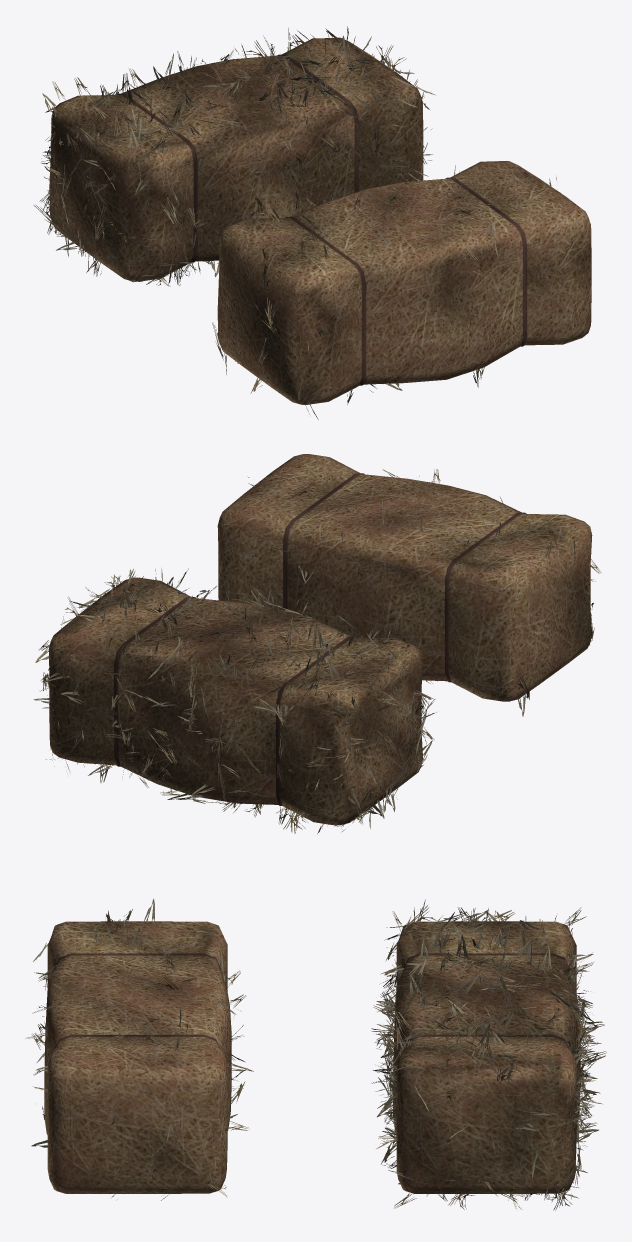
File: pr_hay.glb
3 views of the same model, one above another, from view 1: azimuth 30°, elevation 25°; view 2: azimuth 150°, elevation 25°; view 3: azimuth 270°, elevation 25° (orthographic). The views are drawn at different scales.
Parts seen in each view (by area): view 1: body|hay_bale_texture; view 2: body|hay_bale_texture; view 3: body|hay_bale_texture.
Part boxes in pixels (left/top/right/bottom): body|hay_bale_texture: left=33, top=26, right=591, bottom=419; body|hay_bale_texture: left=33, top=454, right=601, bottom=833; body|hay_bale_texture: left=25, top=898, right=606, bottom=1210.
Bounding box in the file's own units: 1.12 × 0.5797 × 1.51.
1 material, 1 textured.
